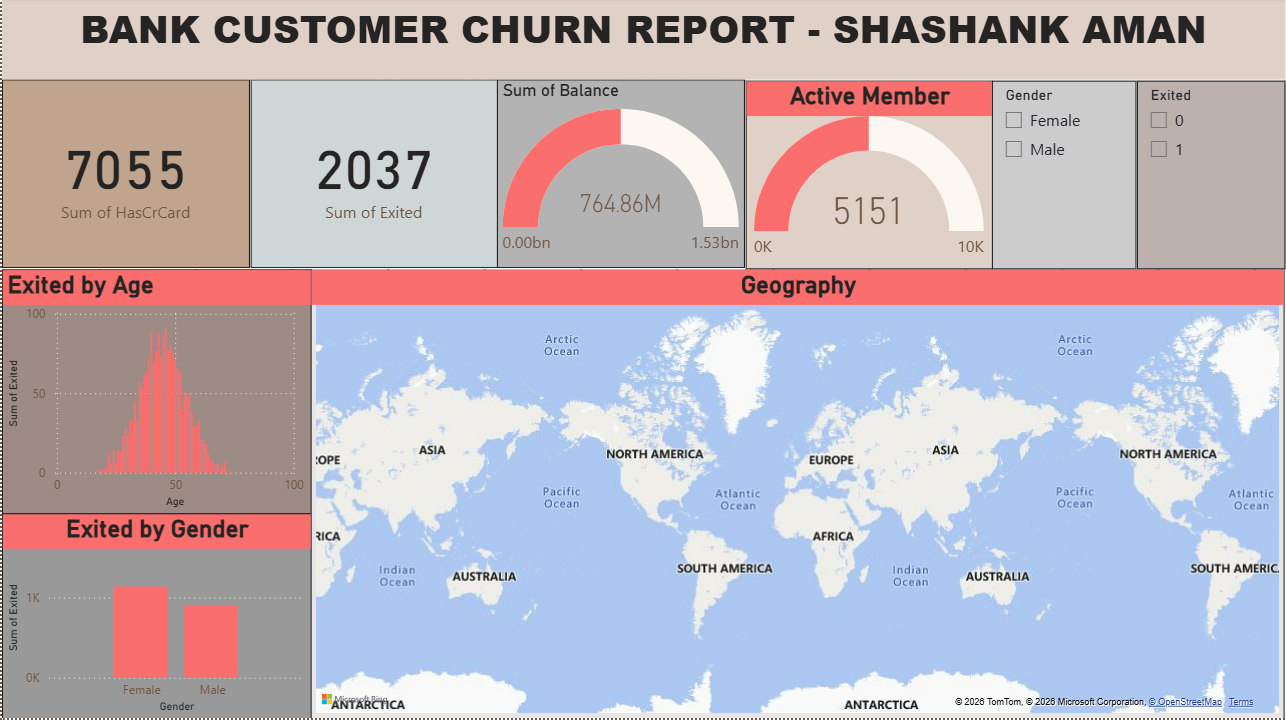

Layout of this report page (visuals, bound fields, positions):
{"tool":"powerbi","page":{"name":"Page 1","canvas":[1280,720],"ordinal":0},"visuals":[{"type":"columnChart","title":"Exited by Gender","fields":{"Category":["Churn_Modelling.Gender"],"Y":["Sum(Churn_Modelling.Exited)"]},"box":[0,515,308.5,205.3],"z":0},{"type":"columnChart","title":"Exited by Age","fields":{"Category":["Churn_Modelling.Age"],"Y":["Sum(Churn_Modelling.Exited)"]},"box":[0,271.2,308.5,243.8],"z":1000},{"type":"card","fields":{"Values":["Sum(Churn_Modelling.HasCrCard)"]},"box":[0,82.1,247.5,187.8],"z":2000},{"type":"card","fields":{"Values":["Sum(Churn_Modelling.Exited)"]},"box":[247.5,82.1,246.3,187.8],"z":3000},{"type":"gauge","fields":{"Y":["Sum(Churn_Modelling.Balance)"]},"box":[493.9,82.1,247.5,187.8],"z":4000},{"type":"map","fields":{"Series":["Churn_Modelling.Geography"]},"box":[308.5,271.2,971.5,449.1],"z":5000},{"type":"gauge","title":"Active Member","fields":{"Y":["Sum(Churn_Modelling.IsActiveMember)"]},"box":[741.4,83.3,246.3,187.8],"z":6000},{"type":"slicer","fields":{"Values":["Churn_Modelling.Gender"]},"box":[987.7,83.3,144.3,187.8],"z":7000},{"type":"slicer","fields":{"Values":["Churn_Modelling.Exited"]},"box":[1132,83.3,148,187.8],"z":8000},{"type":"textbox","box":[0,0,1280,82.1],"z":8001}]}

Visuals, with their boxes in screenshot pixels (x1, y1, x2, y2), scaled from the page's 1280x720 canvas onto the 1286x723 screenshot:
"Exited by Gender" columnChart: select_region(0, 517, 310, 722)
"Exited by Age" columnChart: select_region(0, 272, 310, 517)
card - Sum(Churn_Modelling.HasCrCard): select_region(0, 82, 249, 271)
card - Sum(Churn_Modelling.Exited): select_region(249, 82, 496, 271)
gauge - Sum(Churn_Modelling.Balance): select_region(496, 82, 745, 271)
map - Churn_Modelling.Geography: select_region(310, 272, 1285, 722)
"Active Member" gauge: select_region(745, 84, 992, 272)
slicer - Churn_Modelling.Gender: select_region(992, 84, 1137, 272)
slicer - Churn_Modelling.Exited: select_region(1137, 84, 1285, 272)
textbox: select_region(0, 0, 1285, 82)
